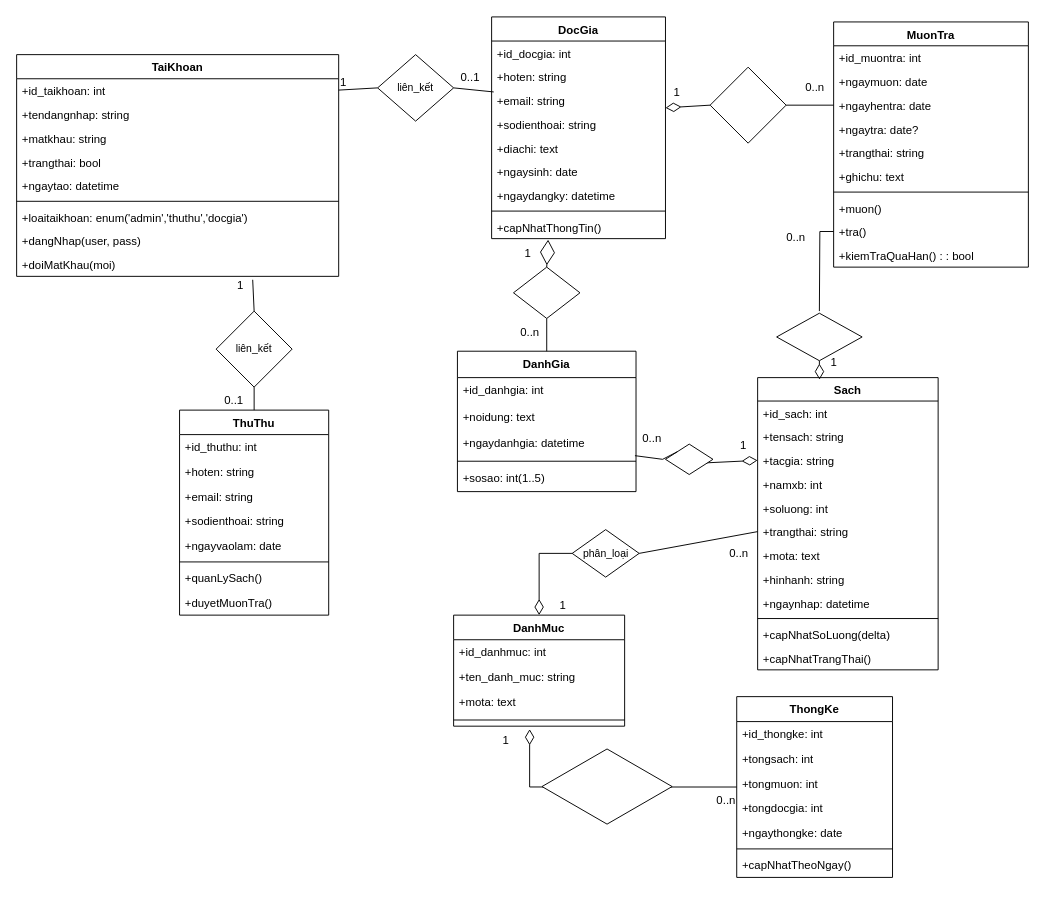
The diagram is 1045 pixels wide and 897 high, and some of its shapes have lost their labels. The centre of each missing label's shape, as x and y in pixels:
"mượn" goes at [747,104].
"nhận" goes at [689,459].
"thống_kê_theo_danh_mục" goes at [606,786].
"viết" goes at [546,292].
"được mượn" goes at [819,336].
